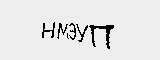М: (56, 20, 69, 41)
Н: (39, 19, 56, 41)
П: (90, 24, 115, 49)
У: (75, 22, 88, 44)
Э: (66, 21, 77, 41)
